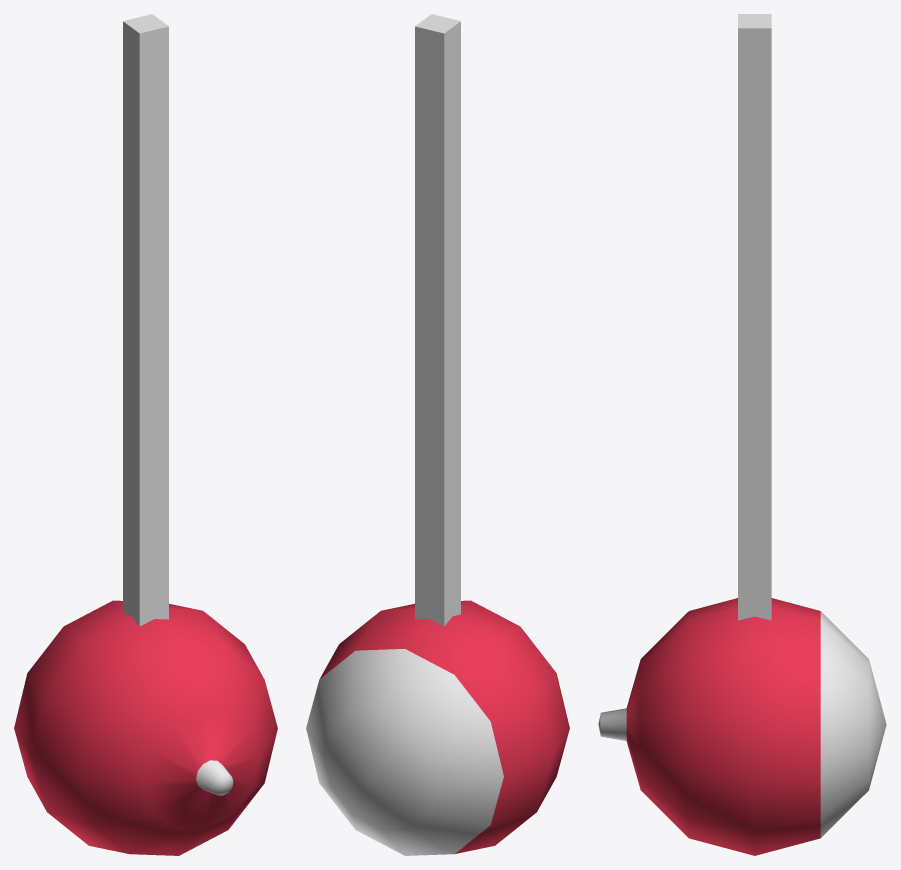
File: SM_Bell.fbx
3 renders of one model, left to right at view 1: azimuth 30°, elevation 25°; view 2: azimuth 150°, elevation 25°; view 3: azimuth 270°, elevation 25°, orthographic.
Parts seen in each view (by area): view 1: Sphere.001, Cube.015; view 2: Sphere.001, Cube.015; view 3: Sphere.001, Cube.015.
Boxes of the visible parts, x1,y1,x2,y2 form: Sphere.001: (14, 600, 277, 855); Cube.015: (123, 14, 168, 626); Sphere.001: (306, 600, 569, 855); Cube.015: (415, 14, 460, 626); Sphere.001: (598, 598, 886, 855); Cube.015: (738, 14, 771, 620).
Size of the model in its own units: 35.02 by 121 by 38.31.
